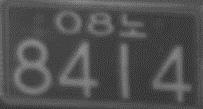0: (55, 8, 82, 35)
1: (107, 42, 140, 99)
4: (58, 39, 98, 98), (152, 44, 192, 102)
8: (12, 39, 52, 95), (87, 10, 113, 37)
노: (120, 11, 145, 38)
